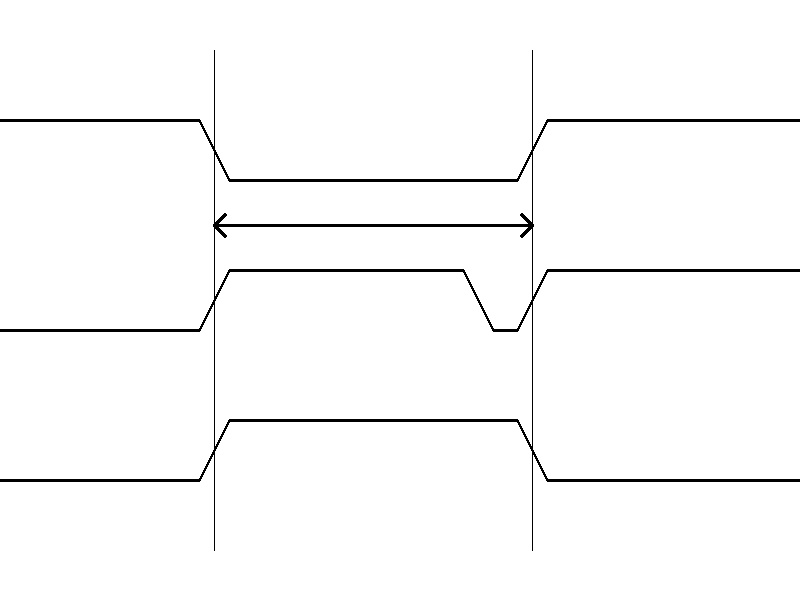double_arrow: (214, 210, 532, 240)
